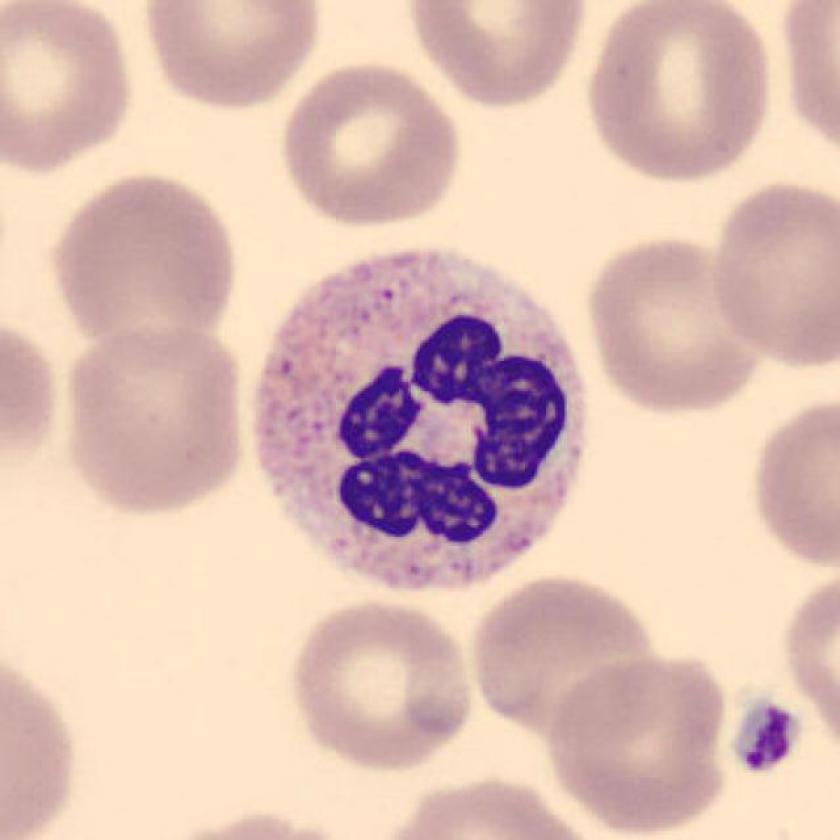neutrophil: (252, 249, 589, 594)
